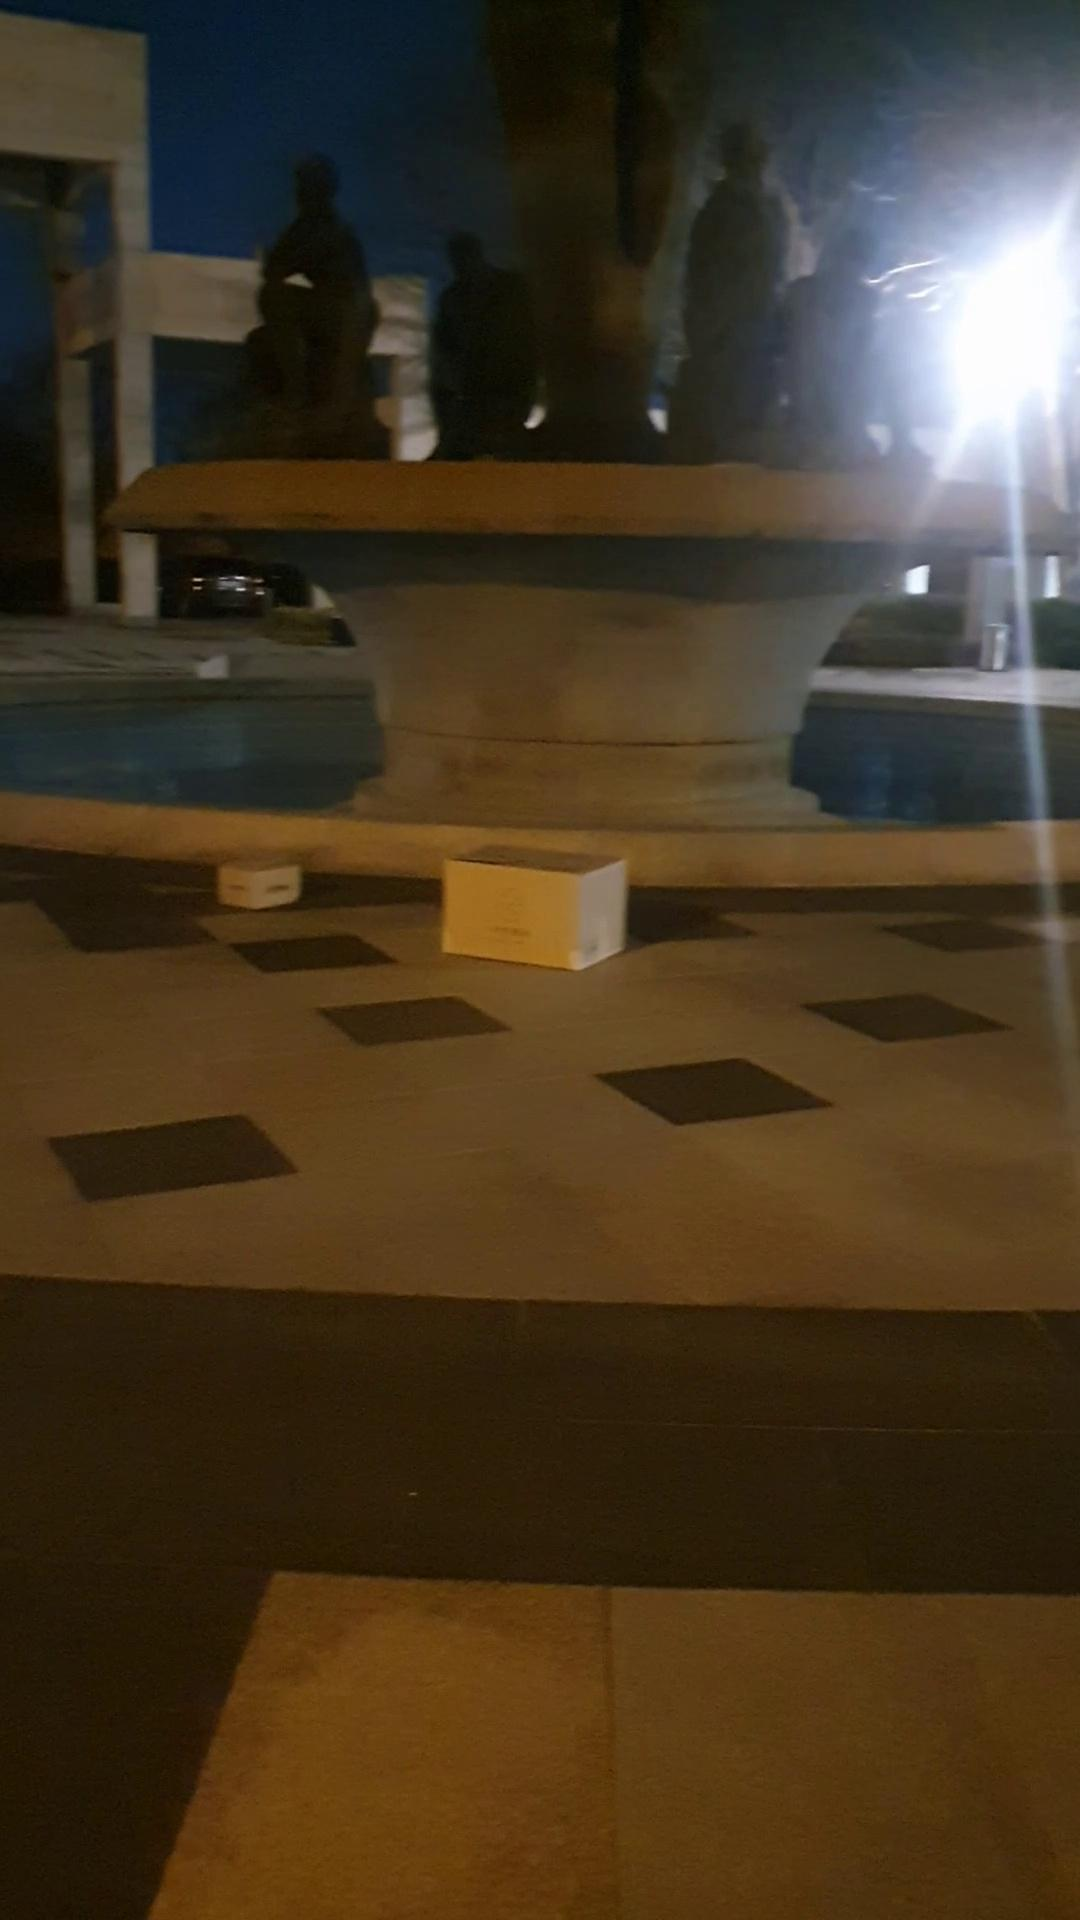Box: (438, 833, 645, 975), (193, 840, 316, 915)
